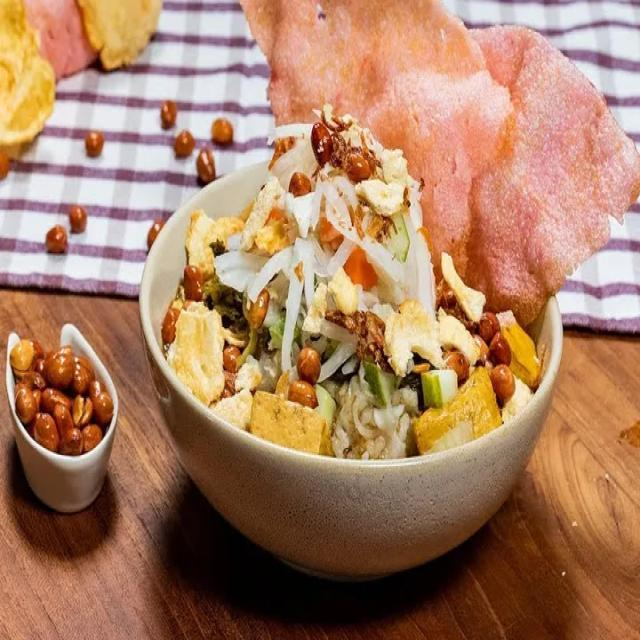bubur ayam: (161, 101, 542, 458)
mangkuk: (140, 158, 566, 580), (8, 322, 120, 512)
